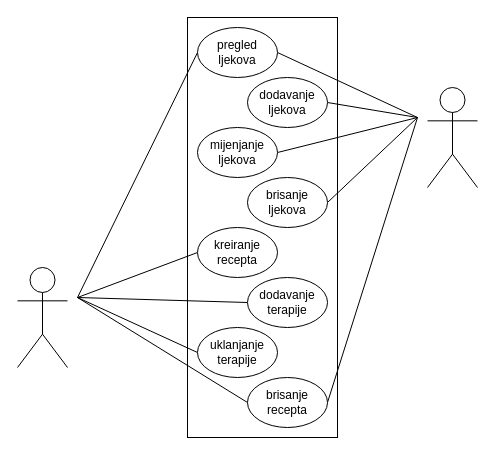
Image size: 496x455. Some labels were removed from this diagram. The box of each missing label's shape, as (x1, y1, x2, y2) in pixels:
farmaceut: (426, 86, 478, 188)
pacijent: (16, 266, 68, 368)
